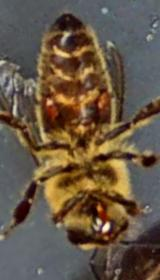varroa_mite: (83, 86, 124, 122), (34, 88, 66, 130)
